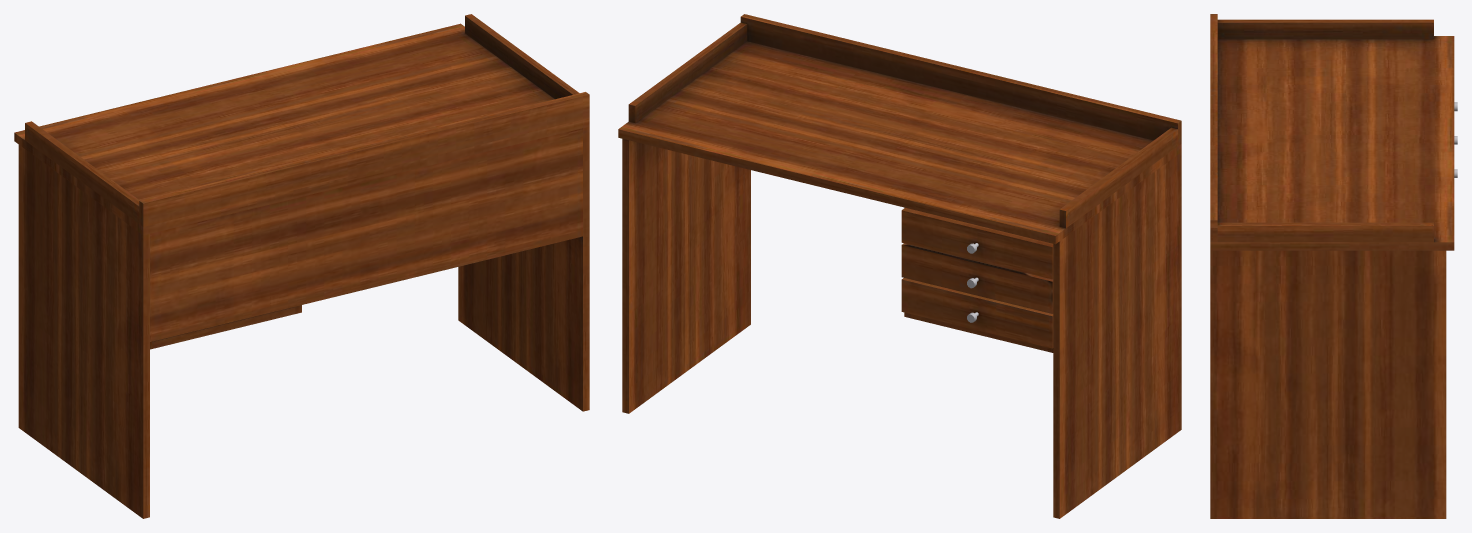
File: desk_drawers_gallery_web.glb
3 renders of one model, left to right at view 1: azimuth 30°, elevation 25°; view 2: azimuth 150°, elevation 25°; view 3: azimuth 270°, elevation 25°, orthographic. The views are drawn at different scales.
Visible parts, largest first — view 1: DeskDrawersGallery_Body; view 2: DeskDrawersGallery_Body, Drawer_1_3_Mesh, Drawer_1_1_Mesh, Drawer_1_2_Mesh; view 3: DeskDrawersGallery_Body.
Part boxes in pixels (<box>): DeskDrawersGallery_Body: <box>14,14,589,518</box>; DeskDrawersGallery_Body: <box>618,14,1181,518</box>; Drawer_1_3_Mesh: <box>901,207,1053,279</box>; Drawer_1_1_Mesh: <box>901,278,1053,348</box>; Drawer_1_2_Mesh: <box>901,243,1053,313</box>; DeskDrawersGallery_Body: <box>1210,14,1454,518</box>.
Bounding box in the file's own units: 1.2 × 0.81 × 0.6081.
2 materials, 2 textured.
